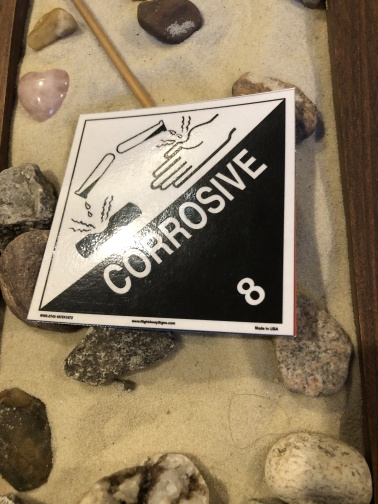Corrosive: (54, 107, 296, 336)
